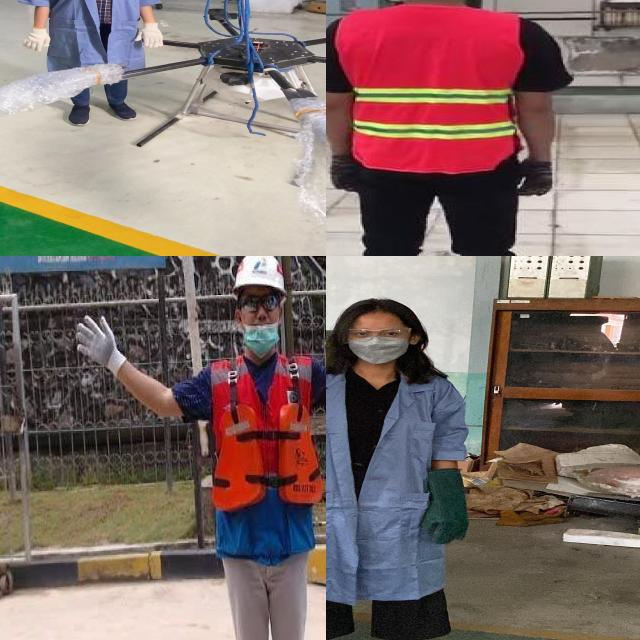face_mask: (341, 324, 411, 366)
glasses: (336, 324, 414, 342)
hand_glove: (412, 502, 476, 547), (326, 157, 364, 194), (517, 158, 552, 197), (128, 23, 168, 49), (18, 28, 54, 52)
head_helmet: (234, 256, 288, 299)
head_nohelmet: (330, 296, 421, 325)
person: (58, 256, 326, 640), (326, 293, 510, 640), (326, 0, 572, 256), (17, 0, 170, 128)
shoes: (61, 100, 96, 129), (101, 99, 141, 122)
vest: (336, 5, 526, 173), (208, 354, 326, 558)
